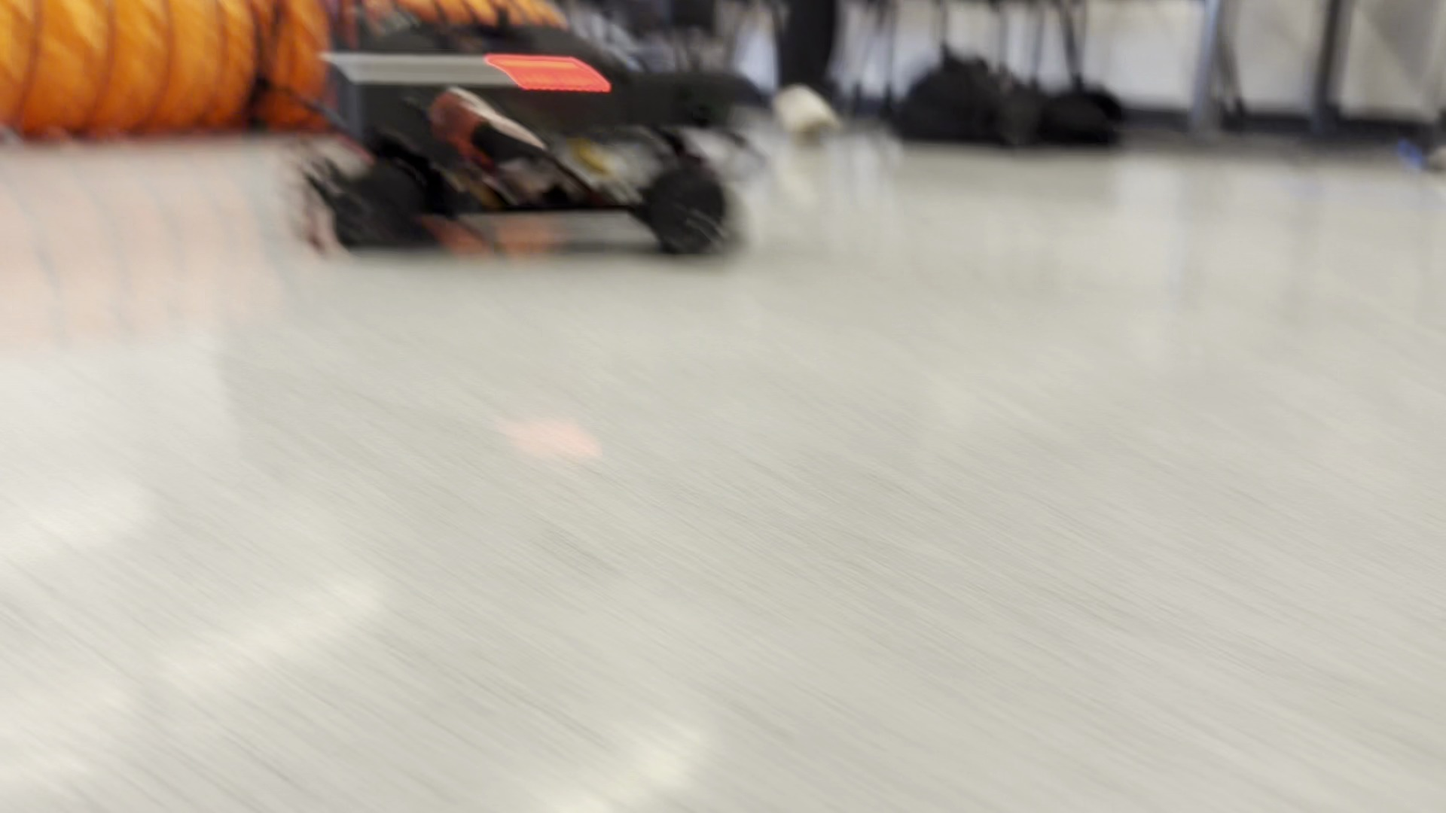racecar: (289, 0, 745, 260)
